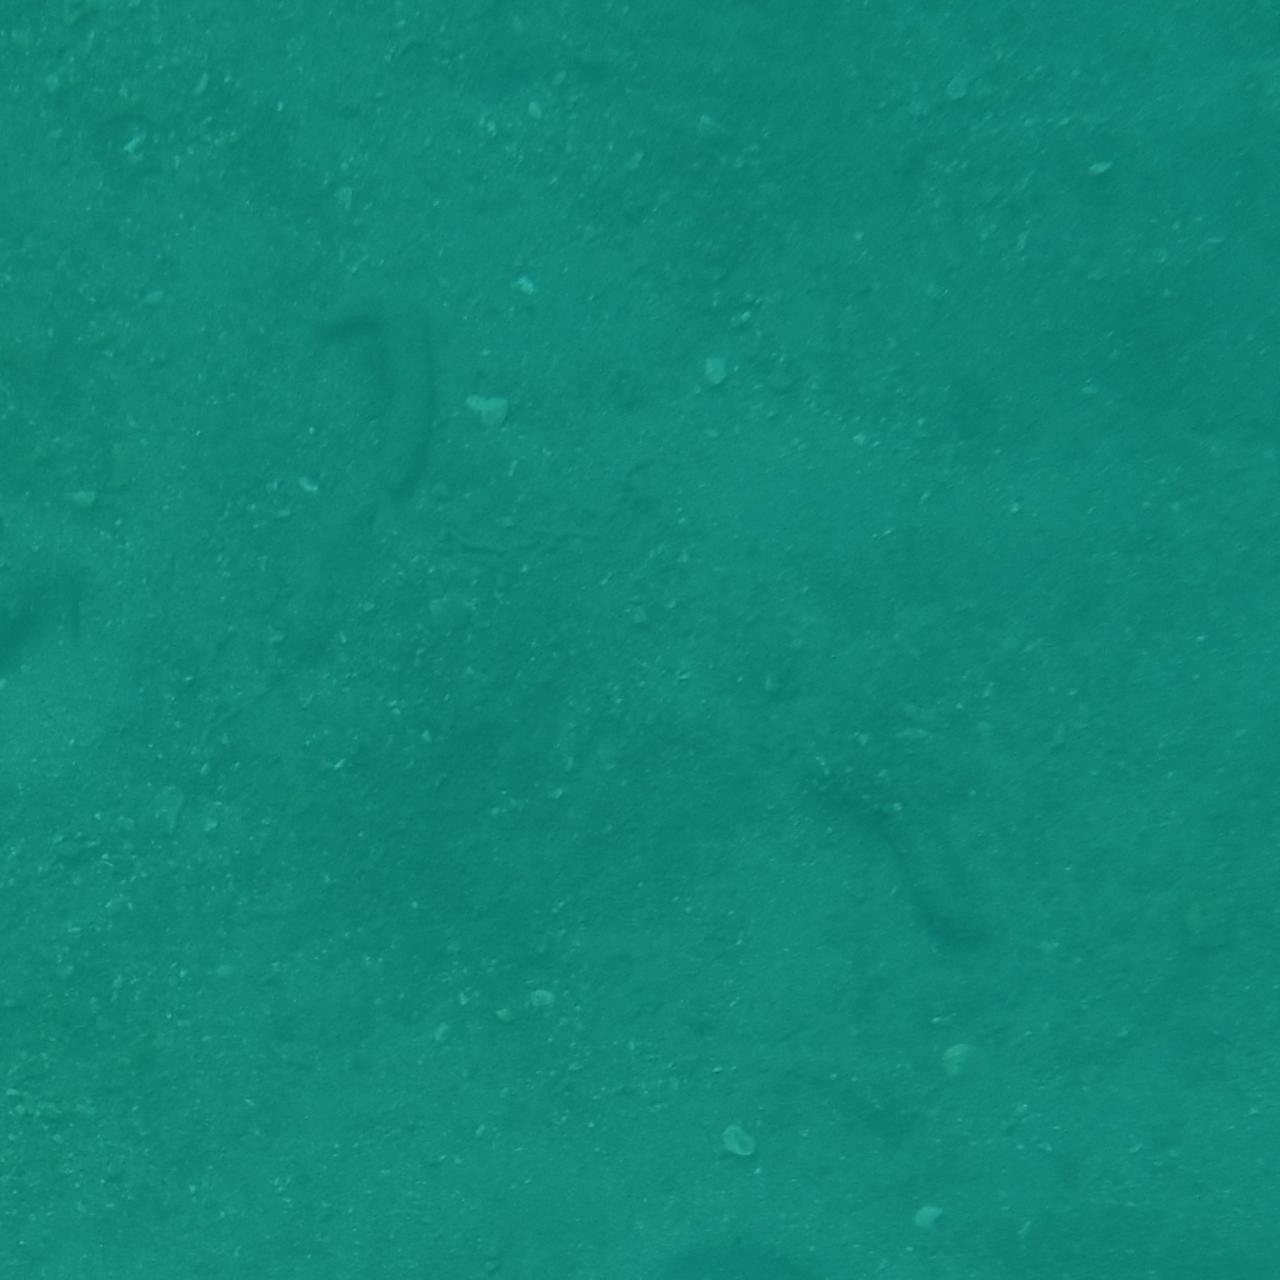Holothuria tubulosa: (769, 694, 1028, 964), (322, 297, 444, 607)
